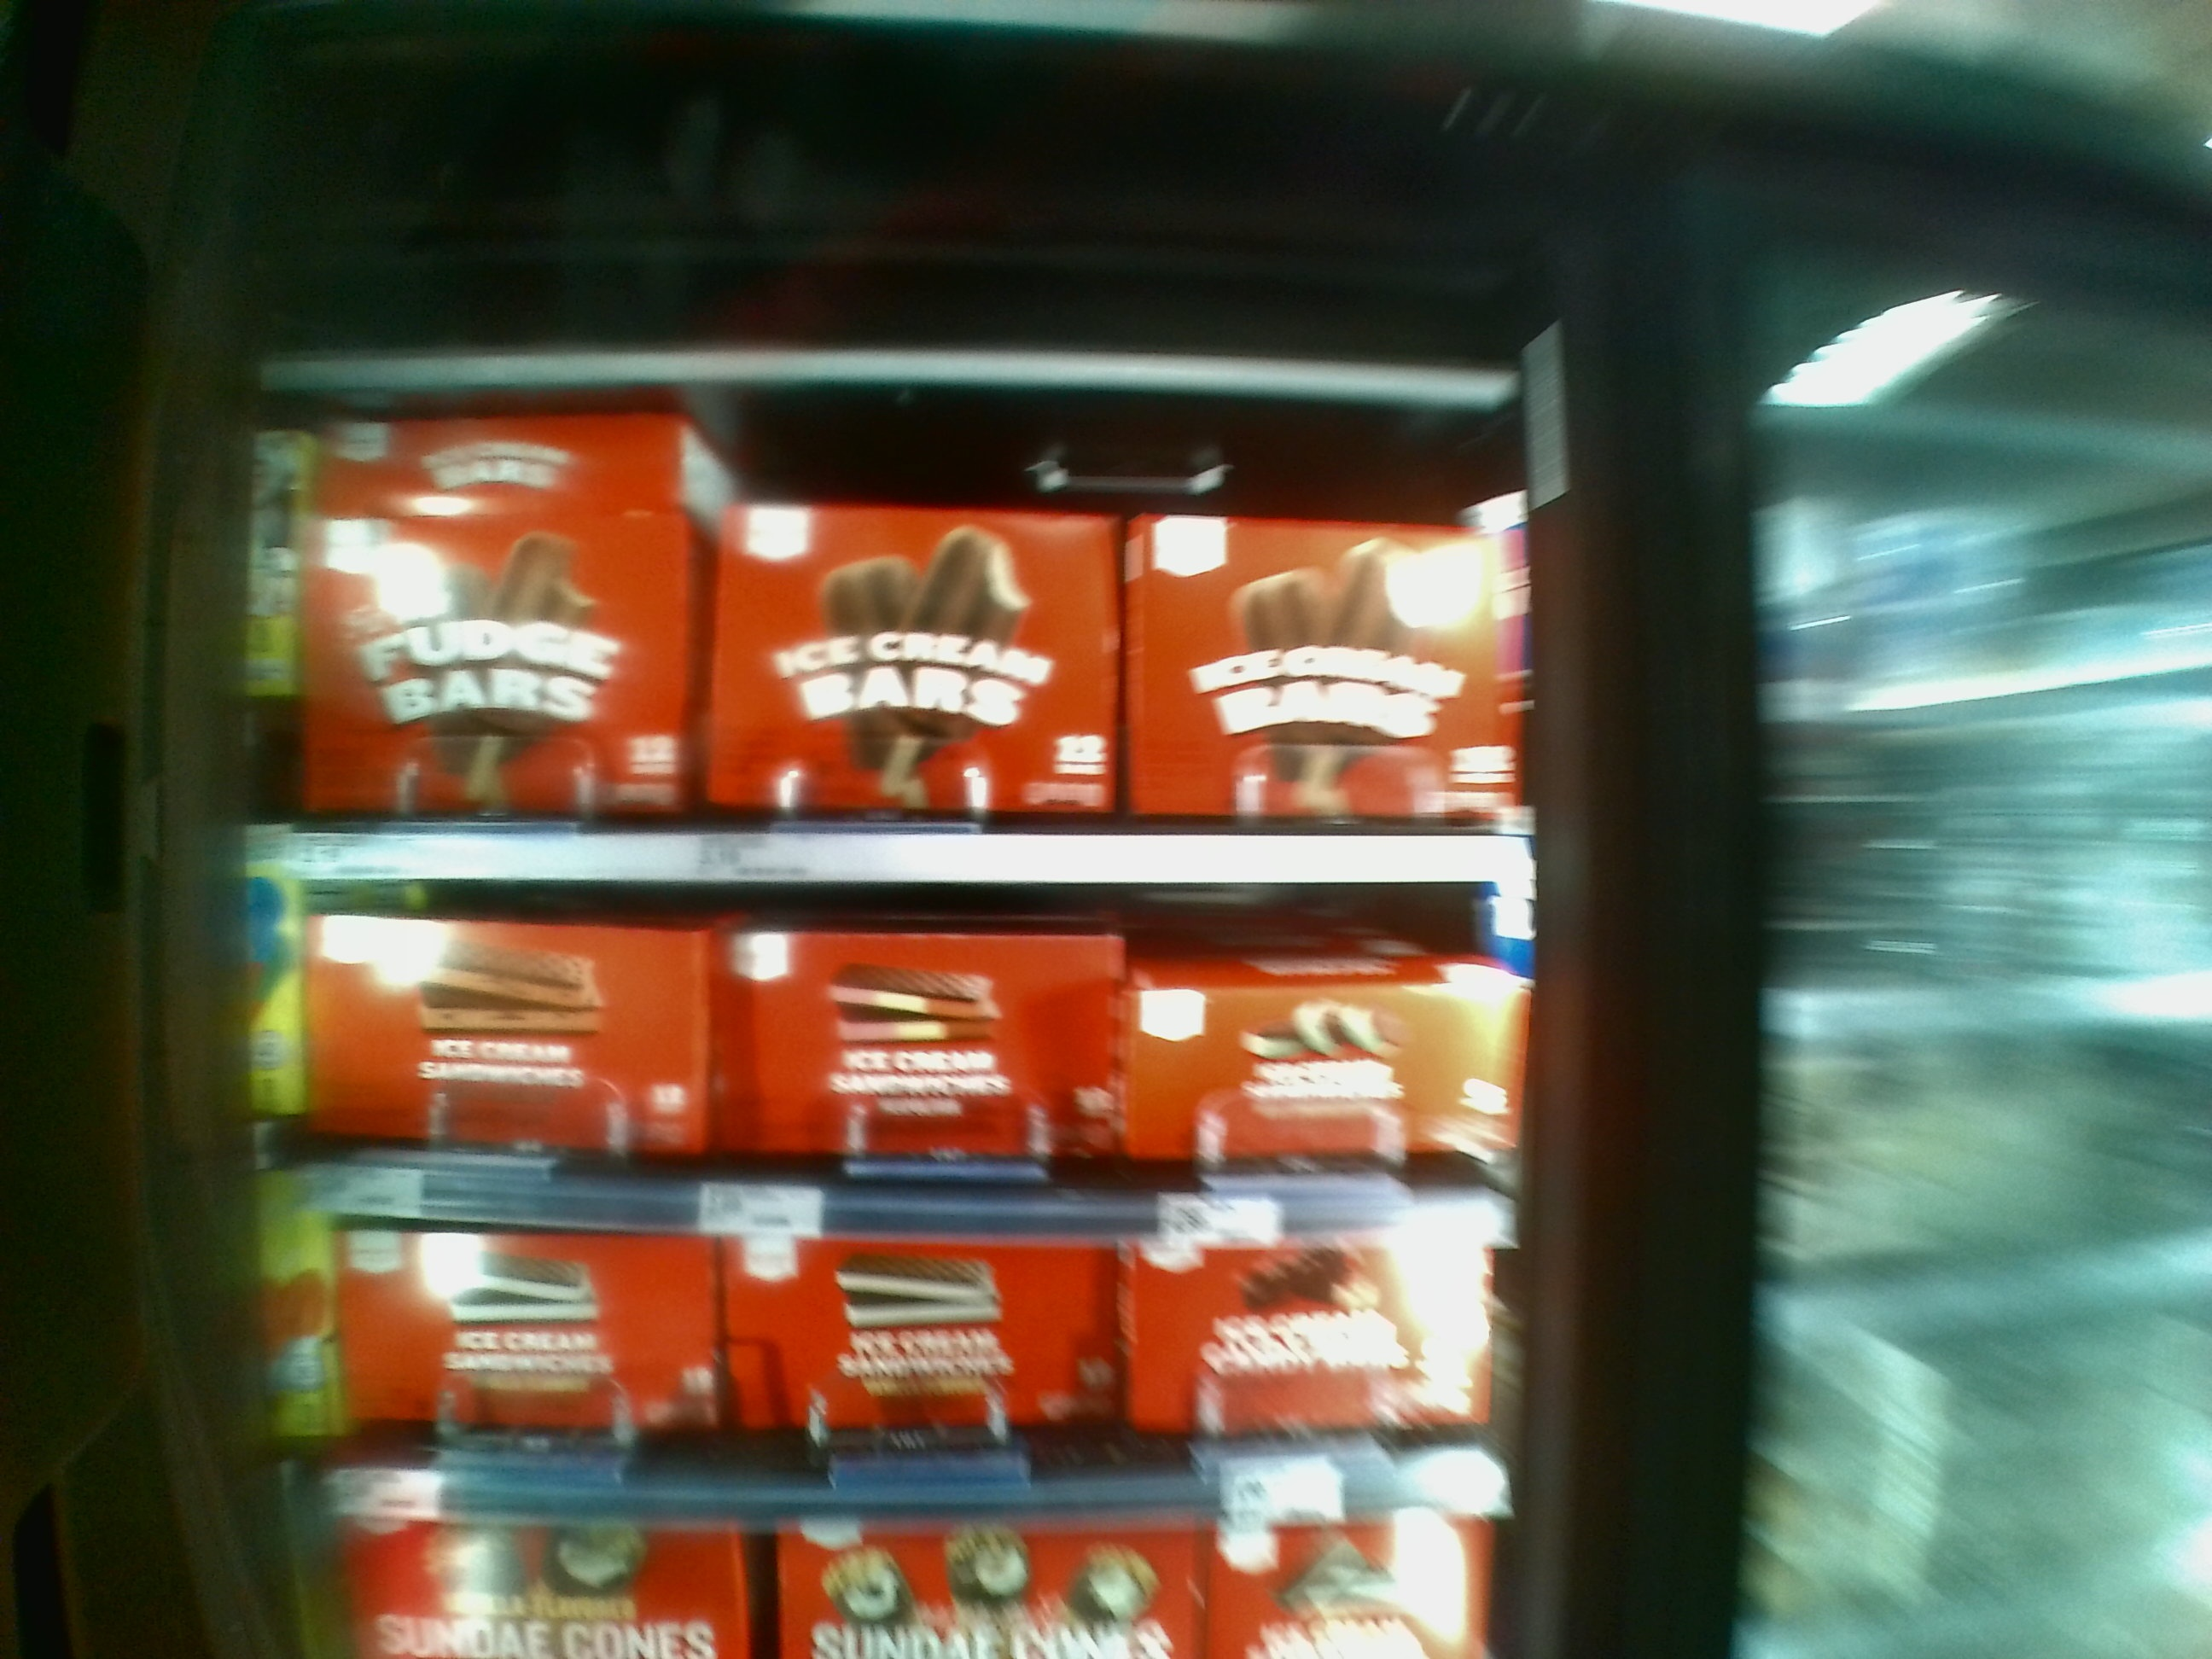shelf: (263, 399, 1517, 890), (293, 870, 1527, 1243), (319, 1234, 1505, 1532)
